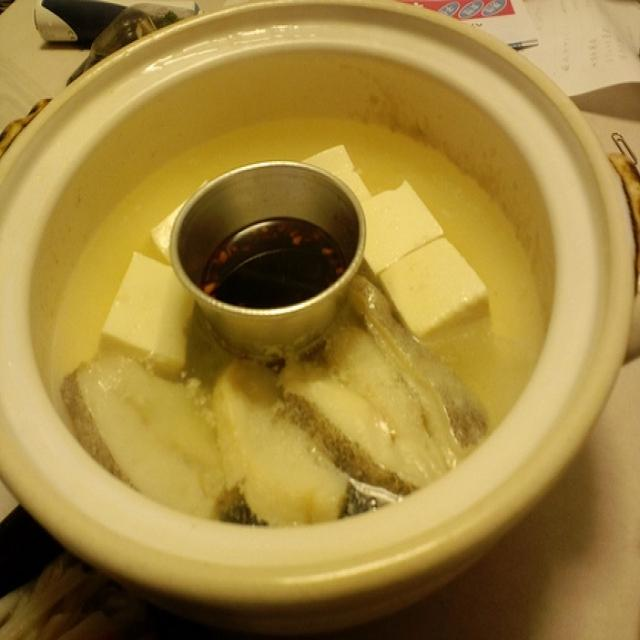豆腐料理: (8, 18, 629, 597)
